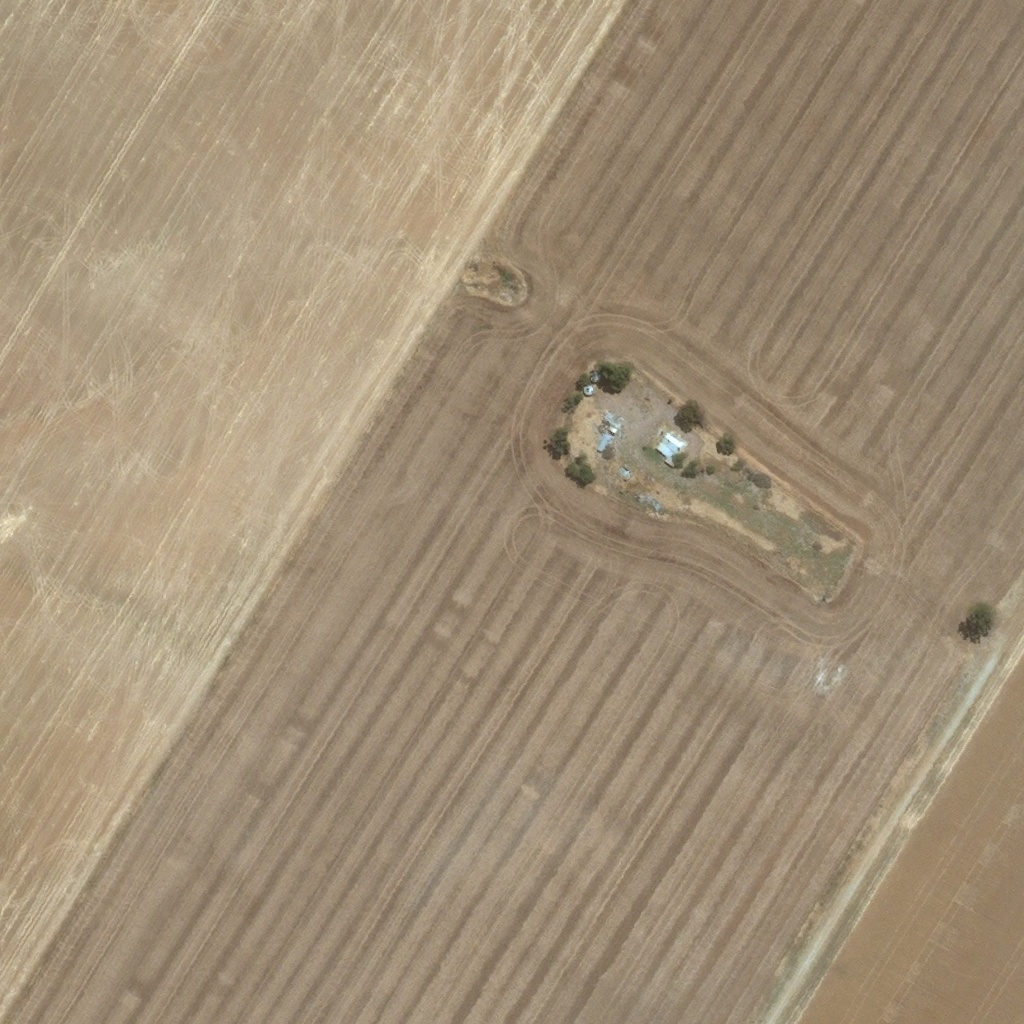0 no-damage: (655, 429, 686, 468), (600, 408, 625, 434), (594, 431, 612, 453), (589, 368, 603, 383), (584, 383, 595, 394)
